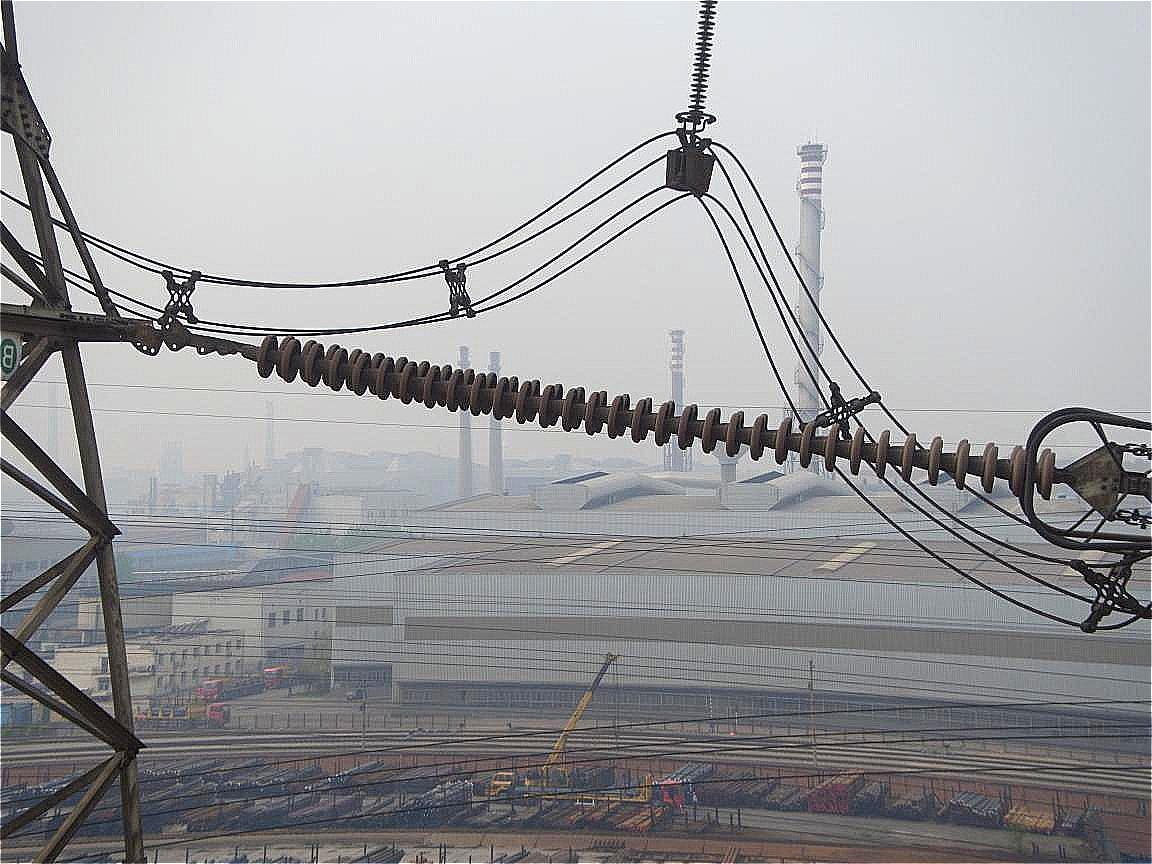insultor1: (245, 325, 1054, 507), (681, 1, 718, 118)
